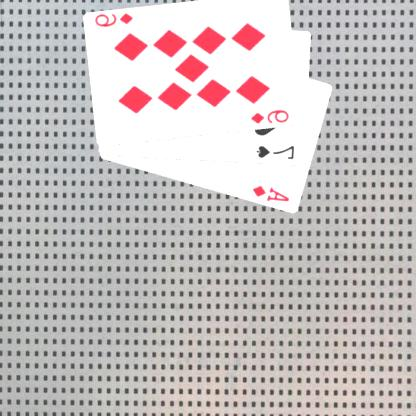7S: (256, 143, 298, 161)
9D: (94, 10, 137, 29), (250, 107, 292, 125)
AD: (252, 183, 292, 203)
